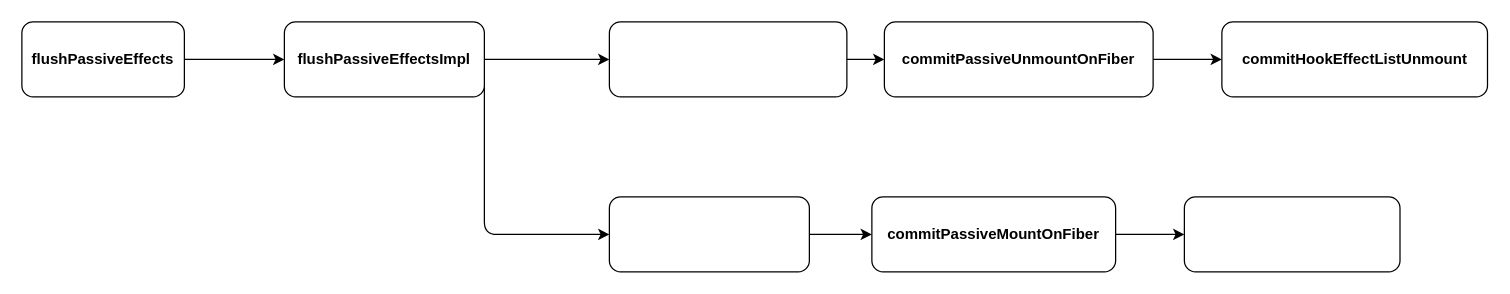
The diagram is 1510 pixels wide and 294 high, and some of its shapes have lost their labels. The centre of each missing label's shape, as x and y in pixels:
commitHookEffectListMount: the point at 1291,234
flushPassiveMountEffects: the point at 708,234
flushPassiveUnmountEffects: the point at 727,59
